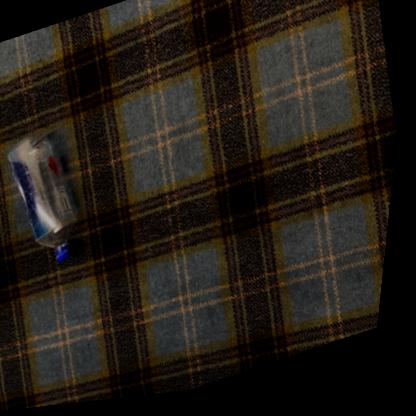Plastic: (11, 136, 81, 263)
